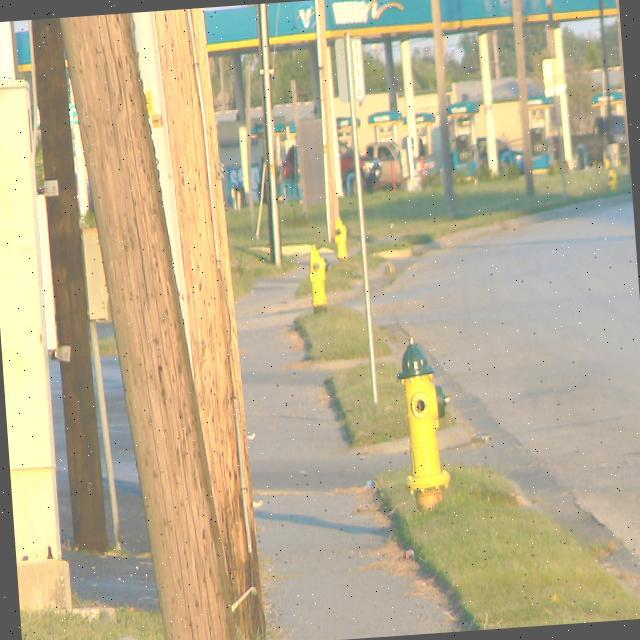fire_hydrant: (394, 332, 456, 511), (304, 242, 334, 312), (600, 143, 620, 188), (332, 215, 347, 261), (235, 184, 242, 210)
